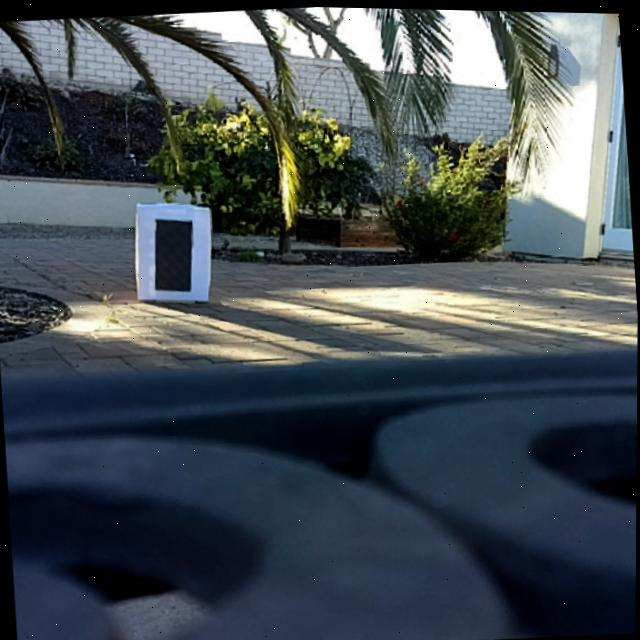led: (152, 216, 196, 292)
